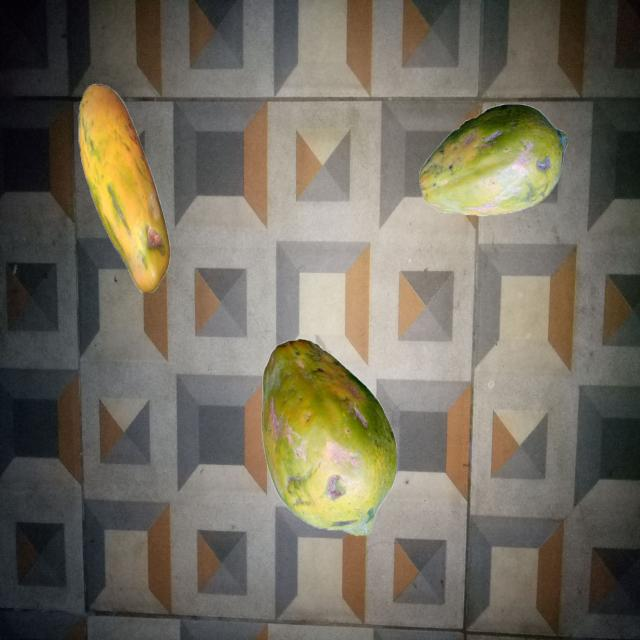Pepaya rippen: (259, 334, 404, 550), (69, 84, 186, 325), (414, 94, 572, 233)
